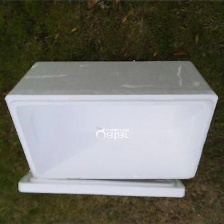foam_box: (1, 56, 221, 203)
